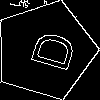D: (20, 25, 77, 74)
